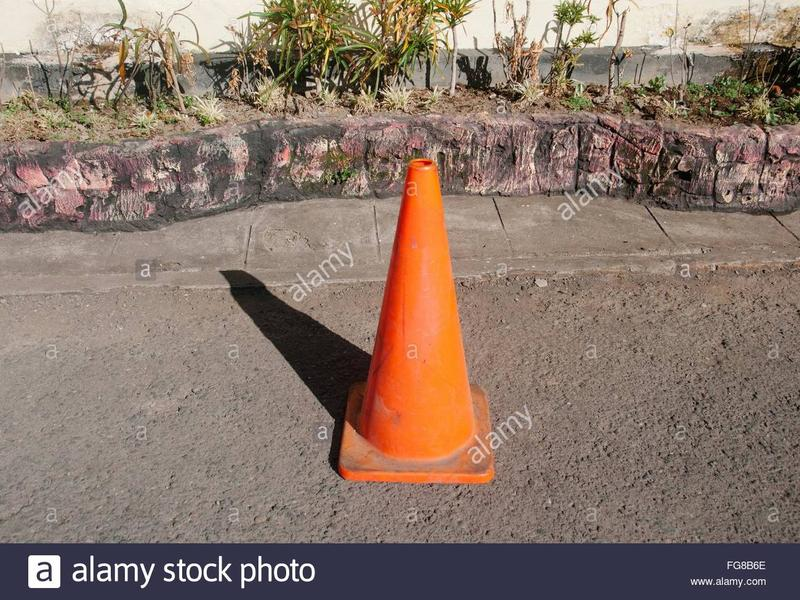Cone: (336, 158, 495, 485)
